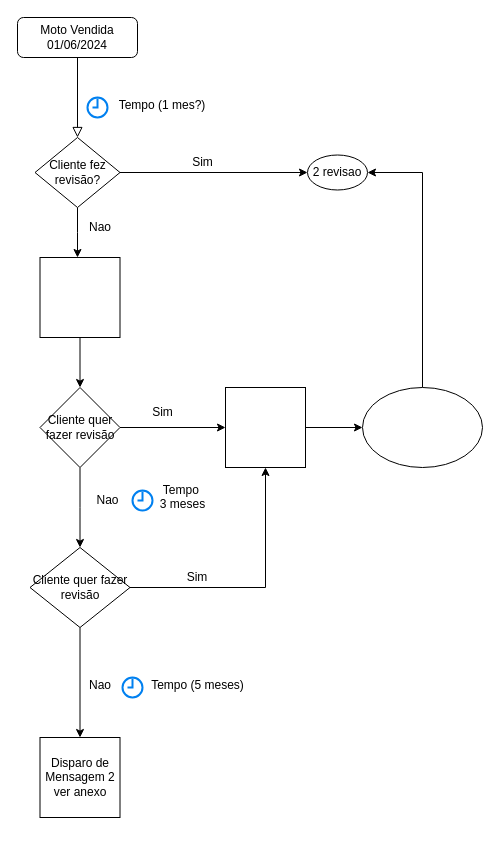
The diagram is 500 pixels wide and 843 high, and some of its shapes have lost their labels. The shapes that lost their labels are listed below. From the top down, each one's centre as x and y in pixels, then its label:
At (x=79, y=297): "Disparo de Mensagem 1 ver anexo".
At (x=265, y=427): "Direcionar para Recepção (URA)".
At (x=422, y=427): "segue processo atual de agendamento".
